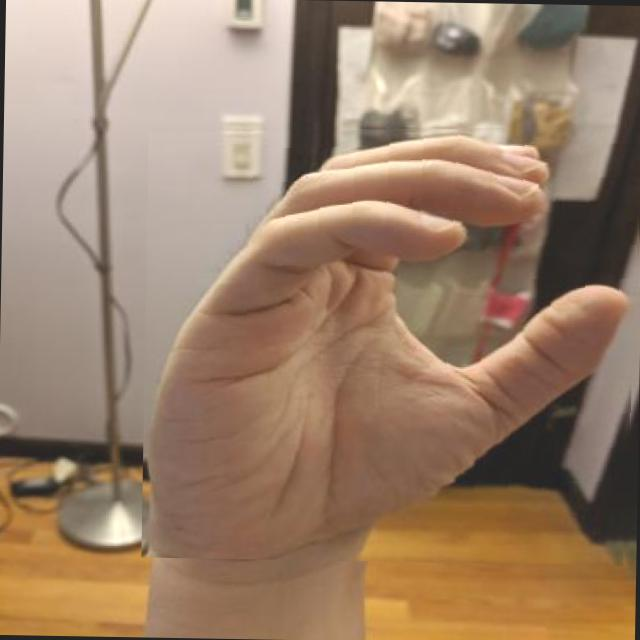C: (140, 117, 640, 566)
